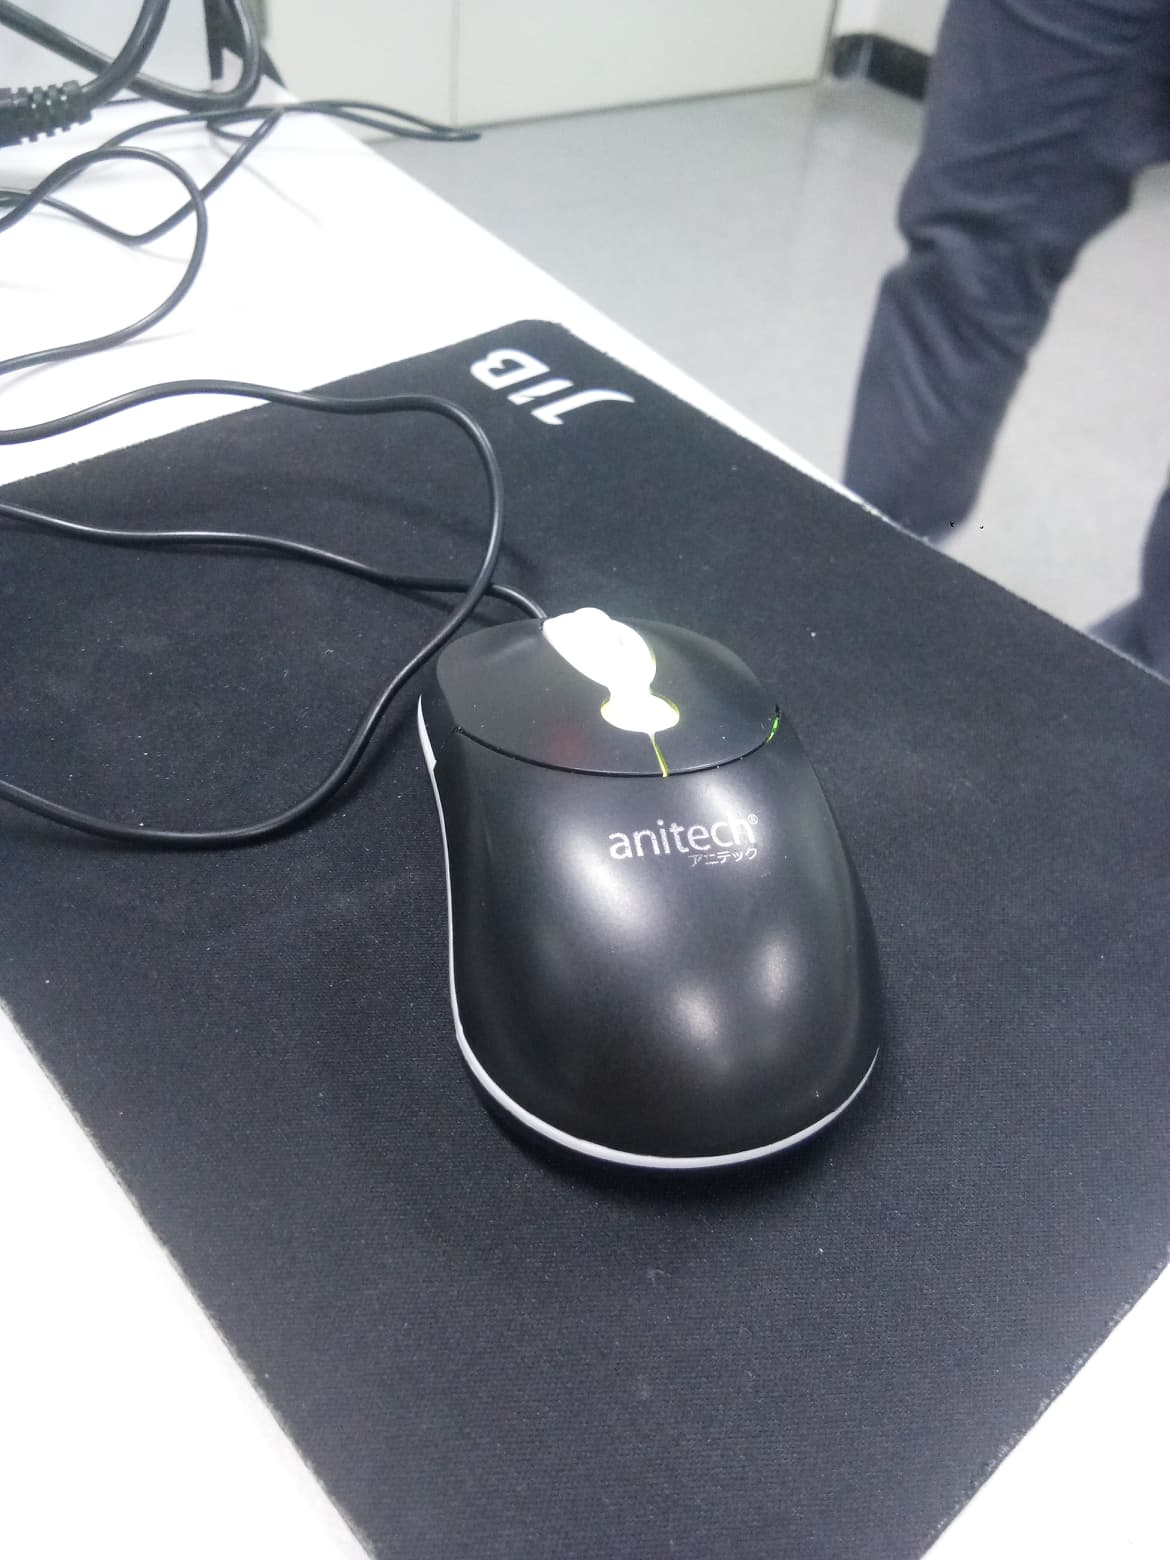mouse: (406, 625, 911, 1142)
